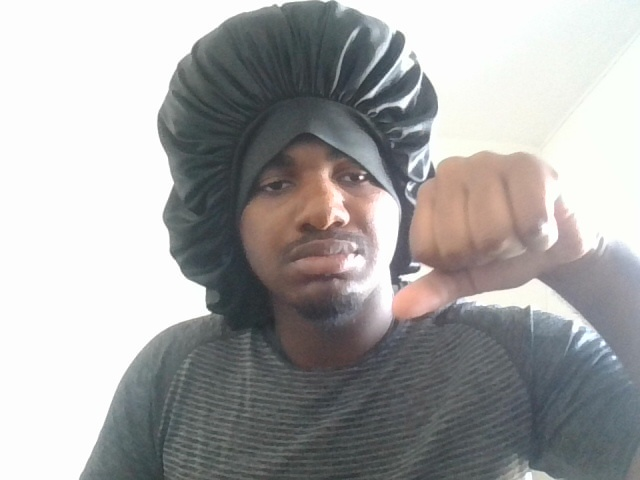Yes: (383, 145, 617, 339)
